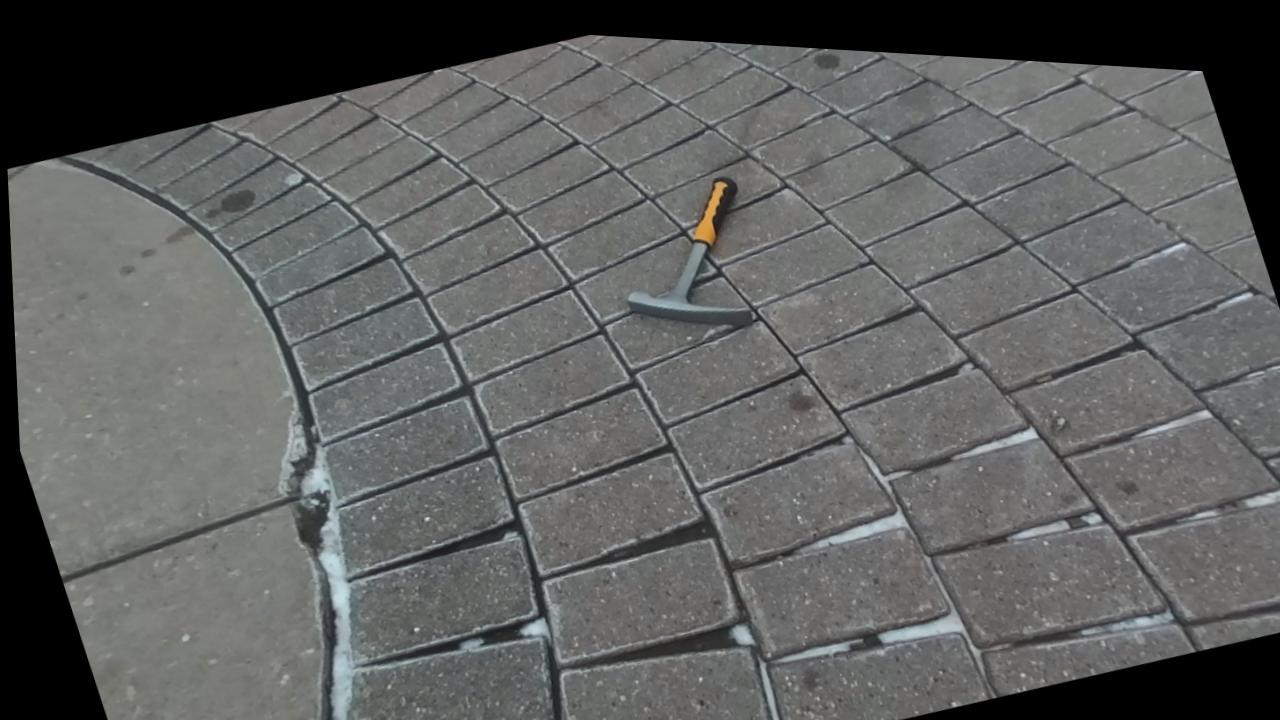pick: (628, 177, 755, 326)
